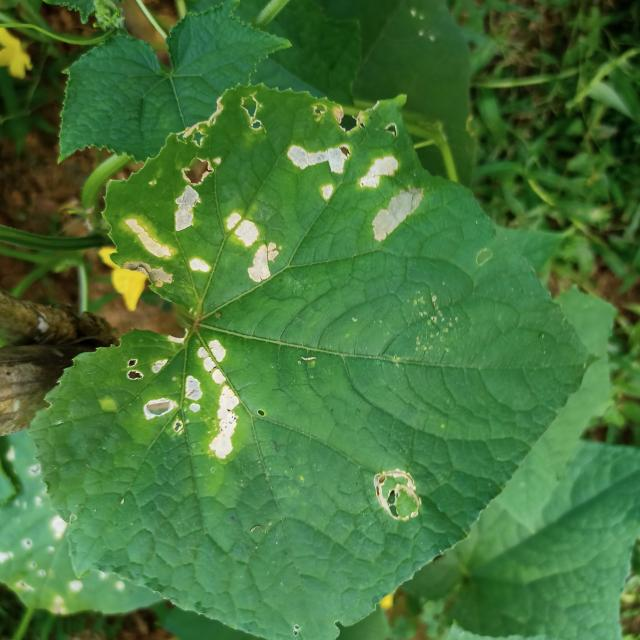disease_cucumber: (124, 326, 249, 463), (117, 159, 216, 290), (355, 148, 432, 247), (275, 132, 355, 202), (222, 204, 284, 285)
